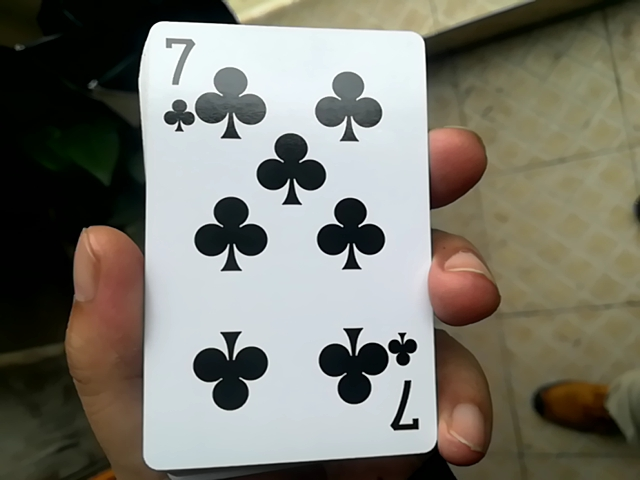mh 7: (127, 22, 445, 473)
